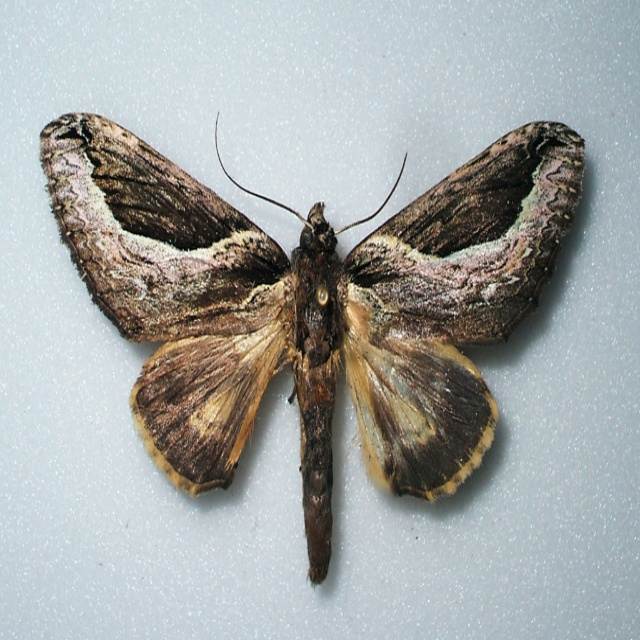Butterfly: (63, 102, 566, 577)
